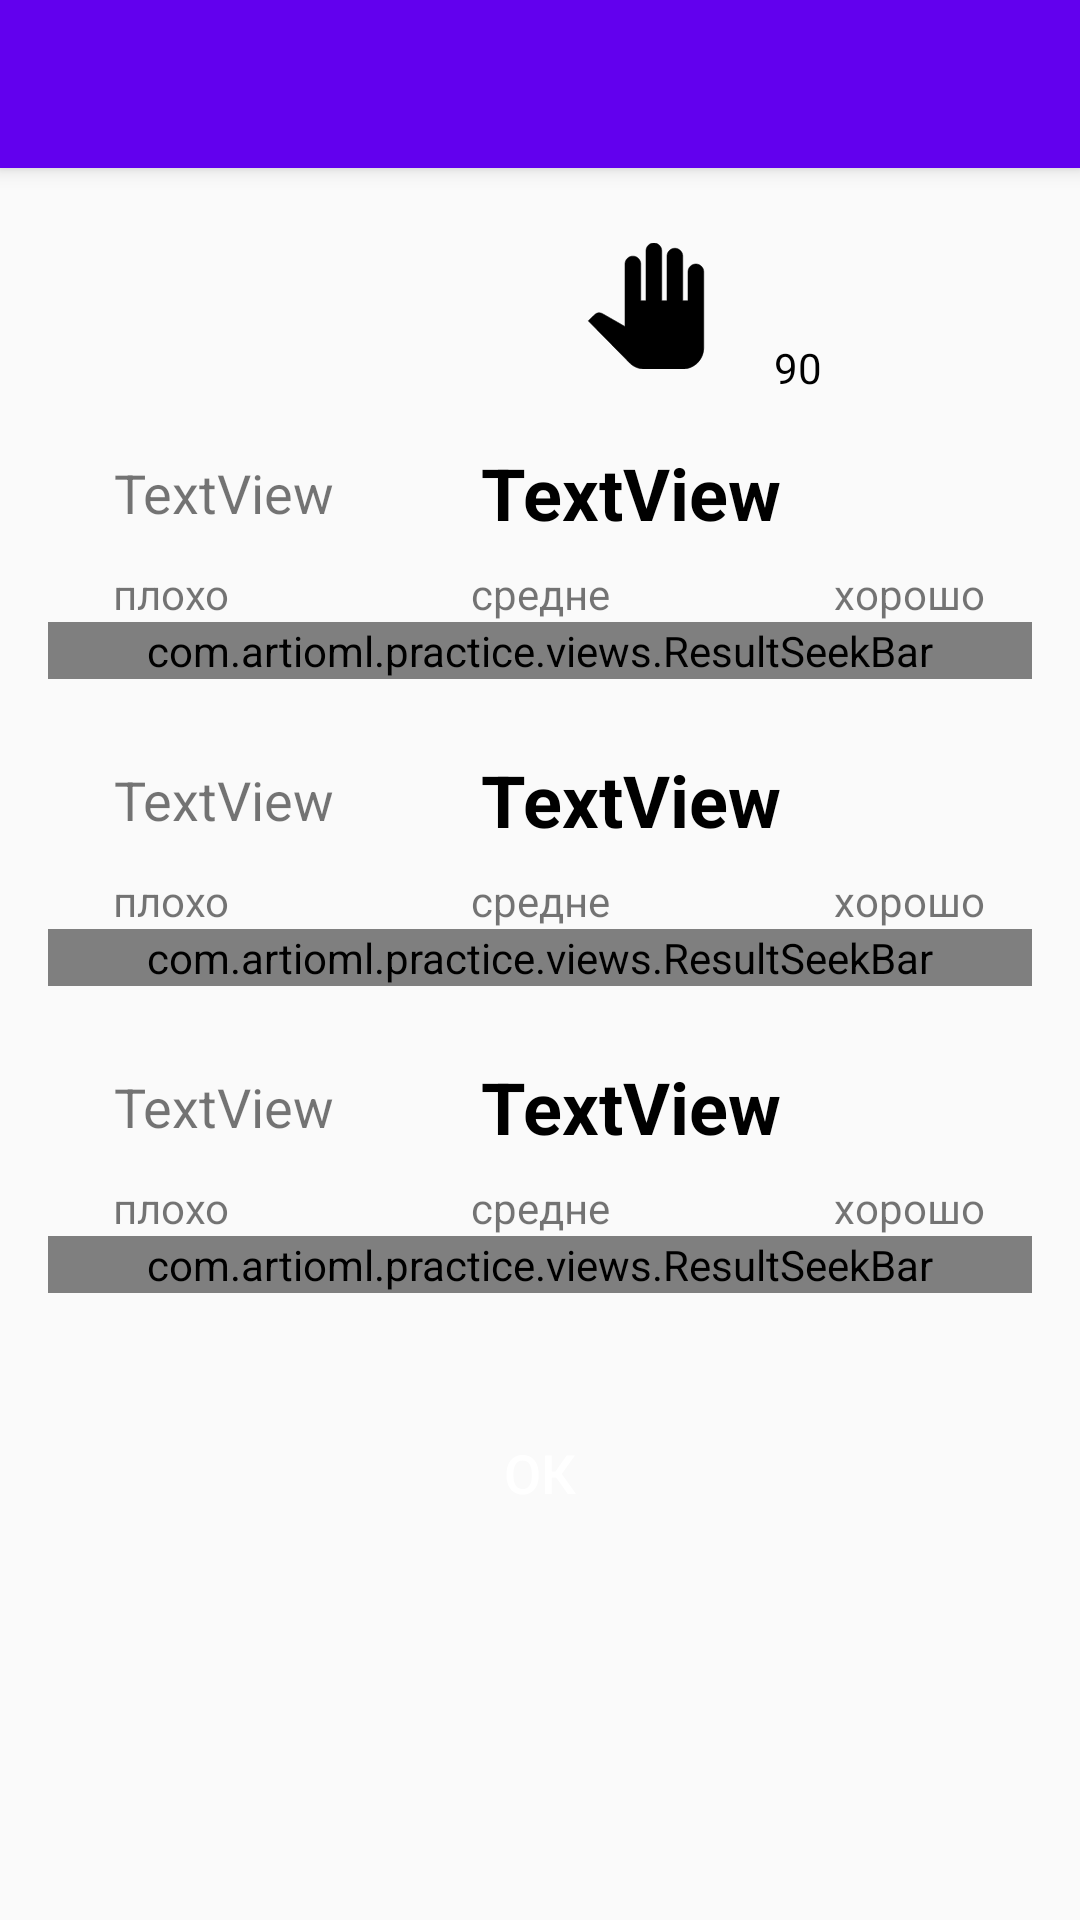

Where icons sit on this 1080w x 1920h app screen, as (x1, y1, x2, y2):
left hand: (588, 243, 705, 369)
